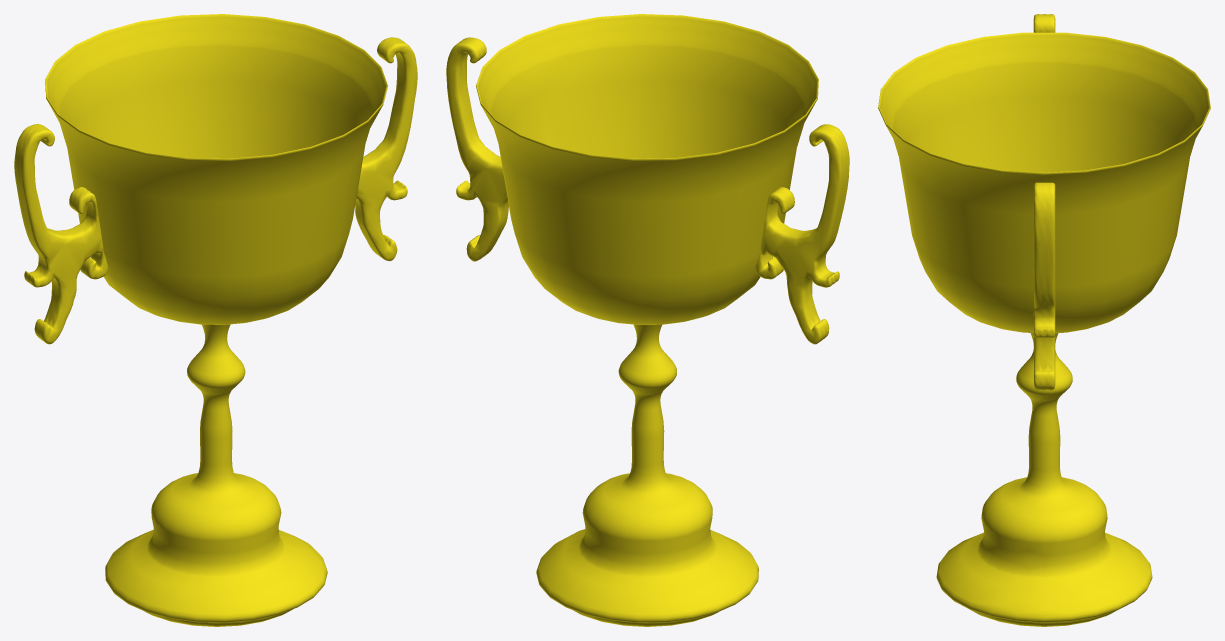
Rendered from Trophy.fbx.
3 renders of one model, left to right at view 1: azimuth 30°, elevation 25°; view 2: azimuth 150°, elevation 25°; view 3: azimuth 270°, elevation 25°, orthographic. The views are drawn at different scales.
Visible parts, largest first — view 1: Box02; view 2: Box02; view 3: Box02.
Part boxes in pixels (x1,y1,x2,y2): Box02: [14, 14, 417, 626]; Box02: [446, 14, 849, 626]; Box02: [878, 14, 1210, 626].
Size of the model in its own units: 2754 by 3371 by 2072.
